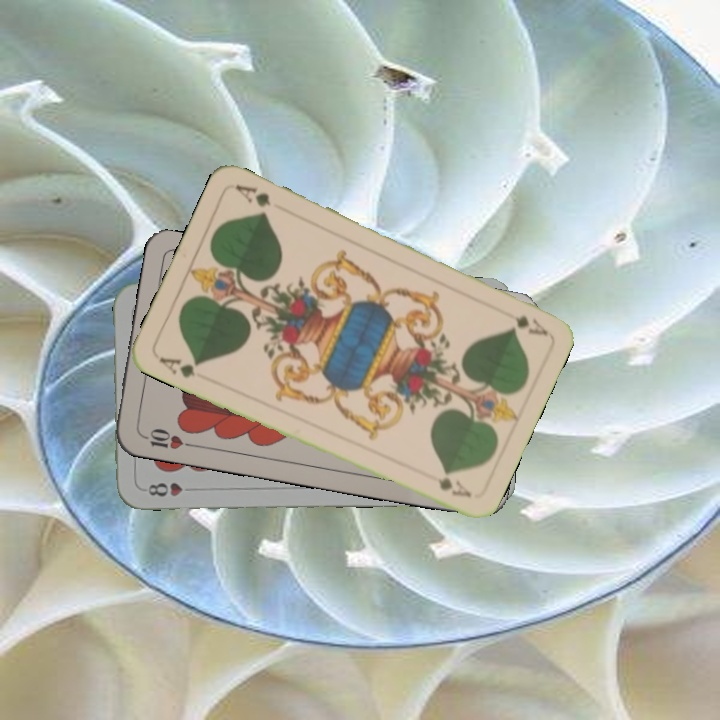GA: (495, 307, 550, 339), (155, 353, 202, 380)
H10: (137, 424, 196, 452)
H8: (144, 478, 185, 500)
